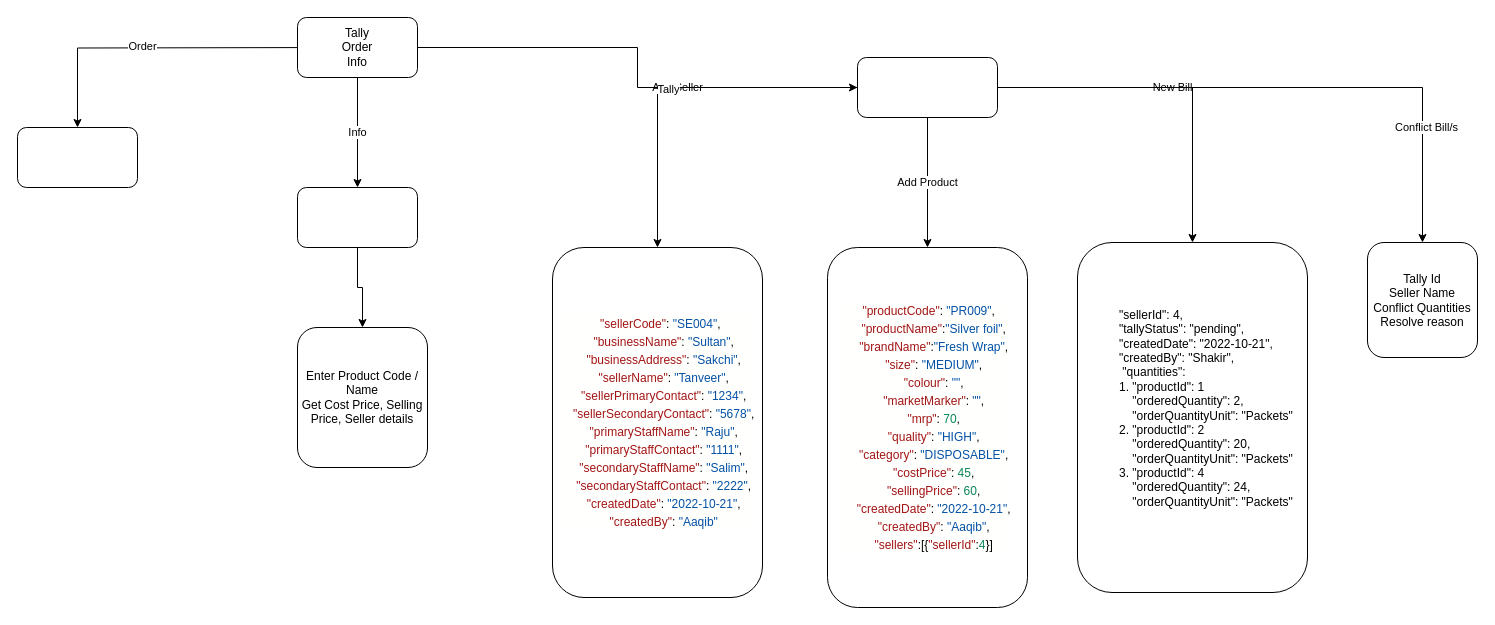
Image size: 1495x625. Some labels were removed from this diagram. Each missing label, with the centre of its shape:
"Add seller Add Product New Bill Conflict Bill/s" goes at point (927, 87).
"Add Shortage Get Order List" goes at point (77, 157).
"Get Rate" goes at point (357, 217).
